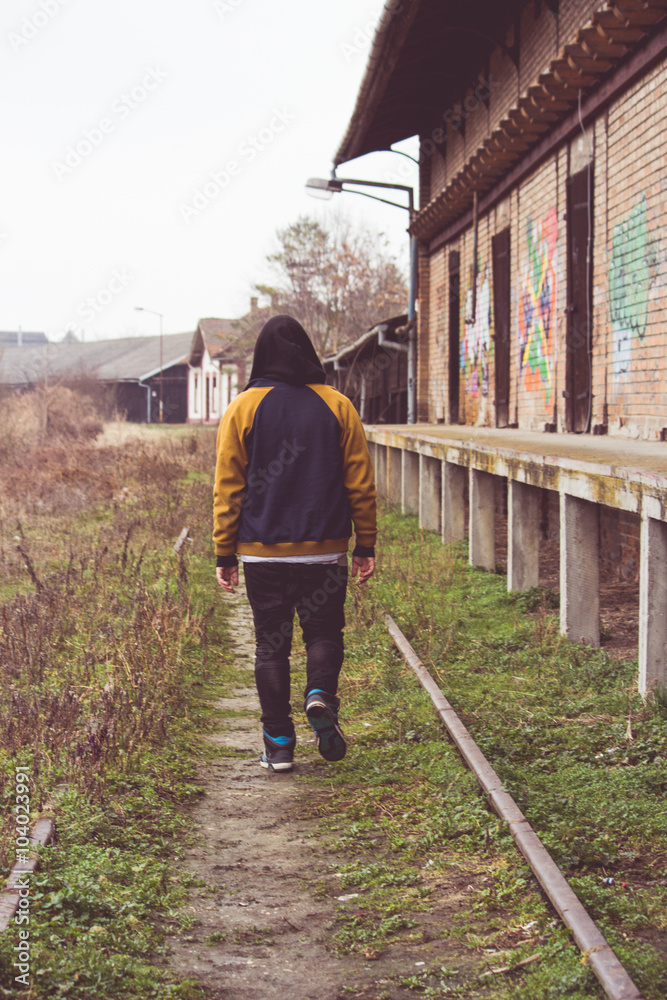person: (202, 310, 379, 773)
